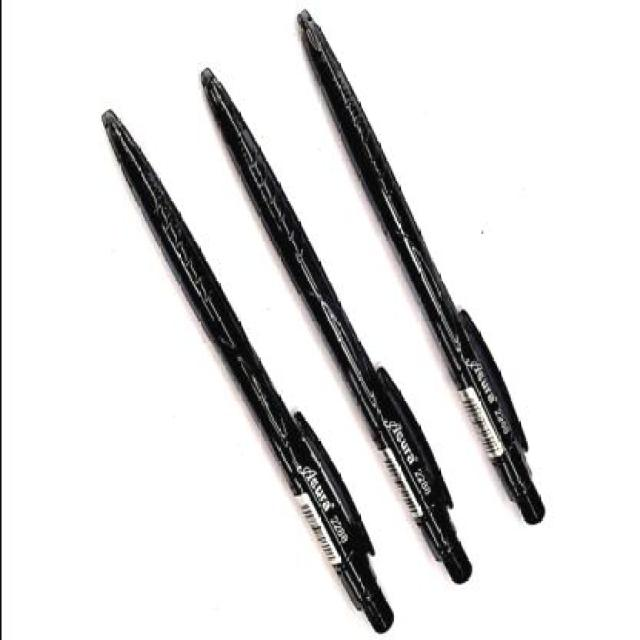pen: (99, 106, 393, 629), (297, 9, 549, 528)
